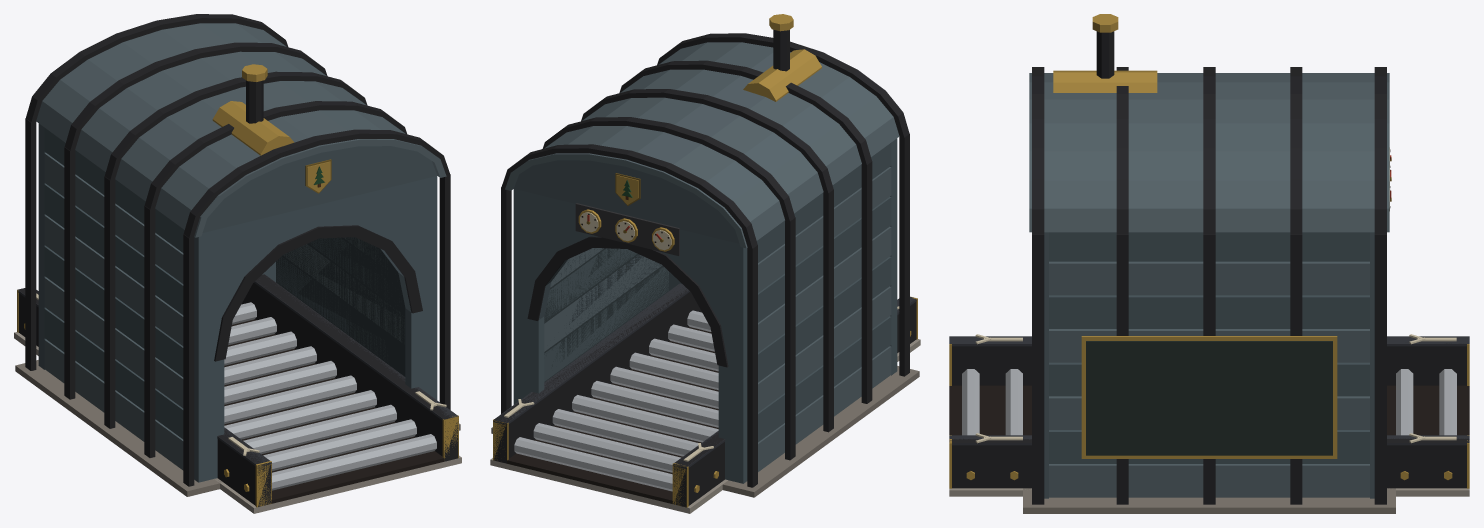
The model's file is PlanerSteam.glb.
3 views of the same model, side by side, from view 1: azimuth 30°, elevation 25°; view 2: azimuth 150°, elevation 25°; view 3: azimuth 270°, elevation 25° (orthographic). The views are drawn at different scales.
Visible parts, largest first — view 1: Body, Rollers, Belt; view 2: Body, Rollers, Belt; view 3: Body, Rollers, Belt, ArrowDecal.
Boxes of the visible parts, x1,y1,x2,y2 form: Body: (14,14,461,513); Rollers: (24,302,436,491); Belt: (224,319,444,503); Body: (490,14,920,513); Rollers: (514,310,911,492); Belt: (507,327,718,503); Body: (949,14,1469,513); Rollers: (962,369,1456,480); Belt: (949,385,1469,435); ArrowDecal: (975,334,1456,443).
Bounding box in the file's own units: 7.9 × 10.32 × 12.
